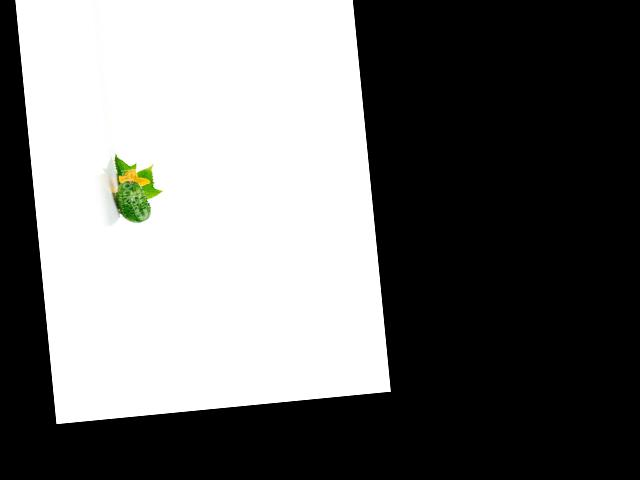cucumber: (114, 180, 151, 224)
